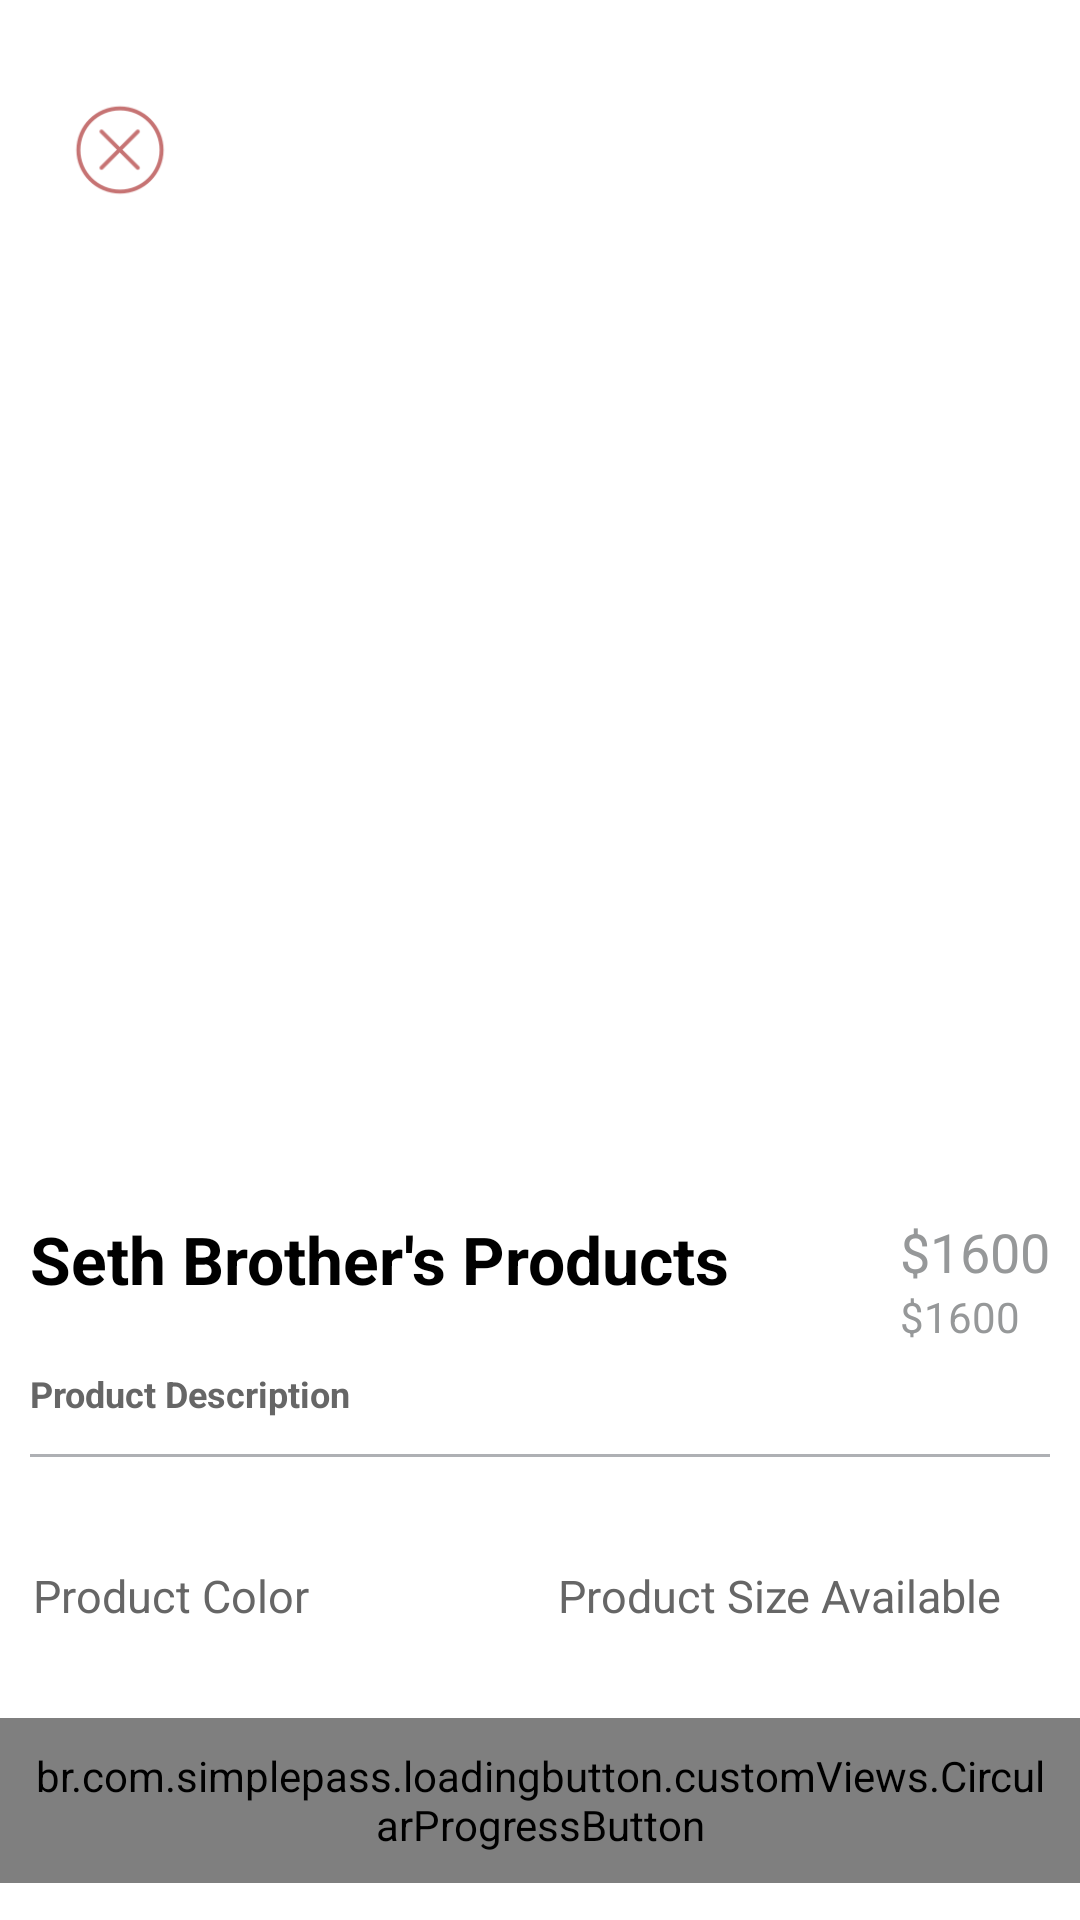

Locate icon controls on the screen. Image size 1080 x 1920, boxes as (x1, y1, x2, y2).
close: (76, 106, 164, 194)
